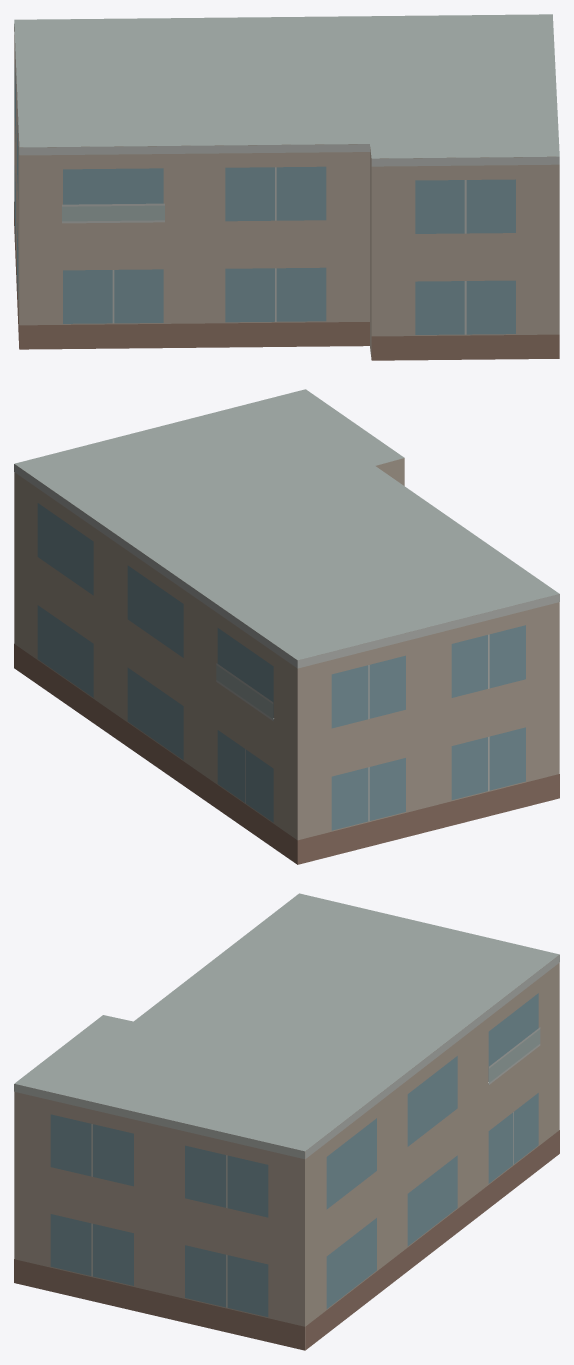
File: survey-upis-32717510.glb
3 views of the same model, one above another, from view 1: azimuth 30°, elevation 25°; view 2: azimuth 150°, elevation 25°; view 3: azimuth 270°, elevation 25° (orthographic). The views are drawn at different scales.
Parts seen in each view (by area): view 1: survey-upis-32717510.tmp; view 2: survey-upis-32717510.tmp; view 3: survey-upis-32717510.tmp.
Part boxes in pixels (<box>): survey-upis-32717510.tmp: <box>14,14,559,360</box>; survey-upis-32717510.tmp: <box>14,389,559,864</box>; survey-upis-32717510.tmp: <box>14,893,559,1350</box>.
Bounding box in the file's own units: 16.96 × 6.1 × 15.15.
